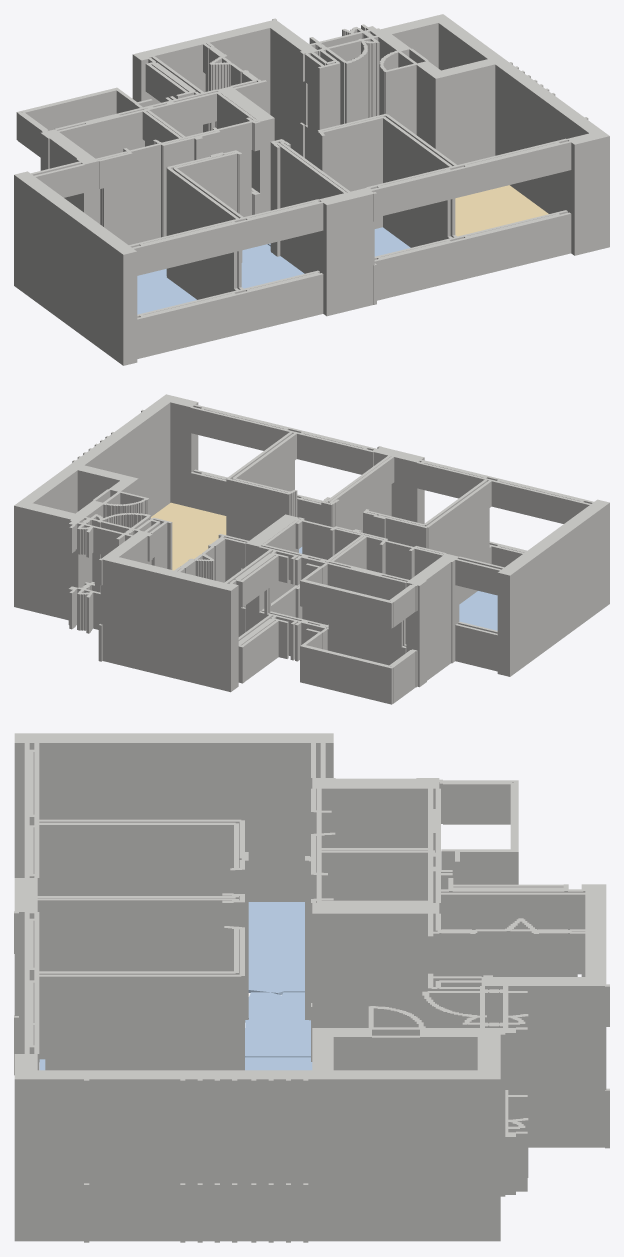
3 renders of one model, top to bottom at view 1: azimuth 30°, elevation 25°; view 2: azimuth 150°, elevation 25°; view 3: azimuth 270°, elevation 25°, orthographic. The views are drawn at different scales.
Parts seen in each view (by area): view 1: walls, room:living:9, room:bedroom:7, room:bedroom:3, room:bedroom:8; view 2: walls, room:living:9, room:bedroom:3; view 3: walls, room:bedroom:3, room:bedroom:7, room:bedroom:8.
Boxes of the visible parts, box(x1,y1,x2,y2) form: walls: box(14, 14, 609, 365); room:living:9: box(455, 185, 548, 236); room:bedroom:7: box(241, 244, 304, 288); room:bedroom:3: box(137, 269, 196, 314); room:bedroom:8: box(267, 227, 410, 256); walls: box(14, 394, 609, 704); room:living:9: box(151, 502, 226, 570); room:bedroom:3: box(459, 591, 497, 630); walls: box(14, 733, 609, 1242); room:bedroom:3: box(248, 902, 304, 994); room:bedroom:7: box(245, 992, 310, 1057); room:bedroom:8: box(39, 1057, 312, 1070).
Size of the model in its own units: 12.89 by 2.8 by 9.34.
